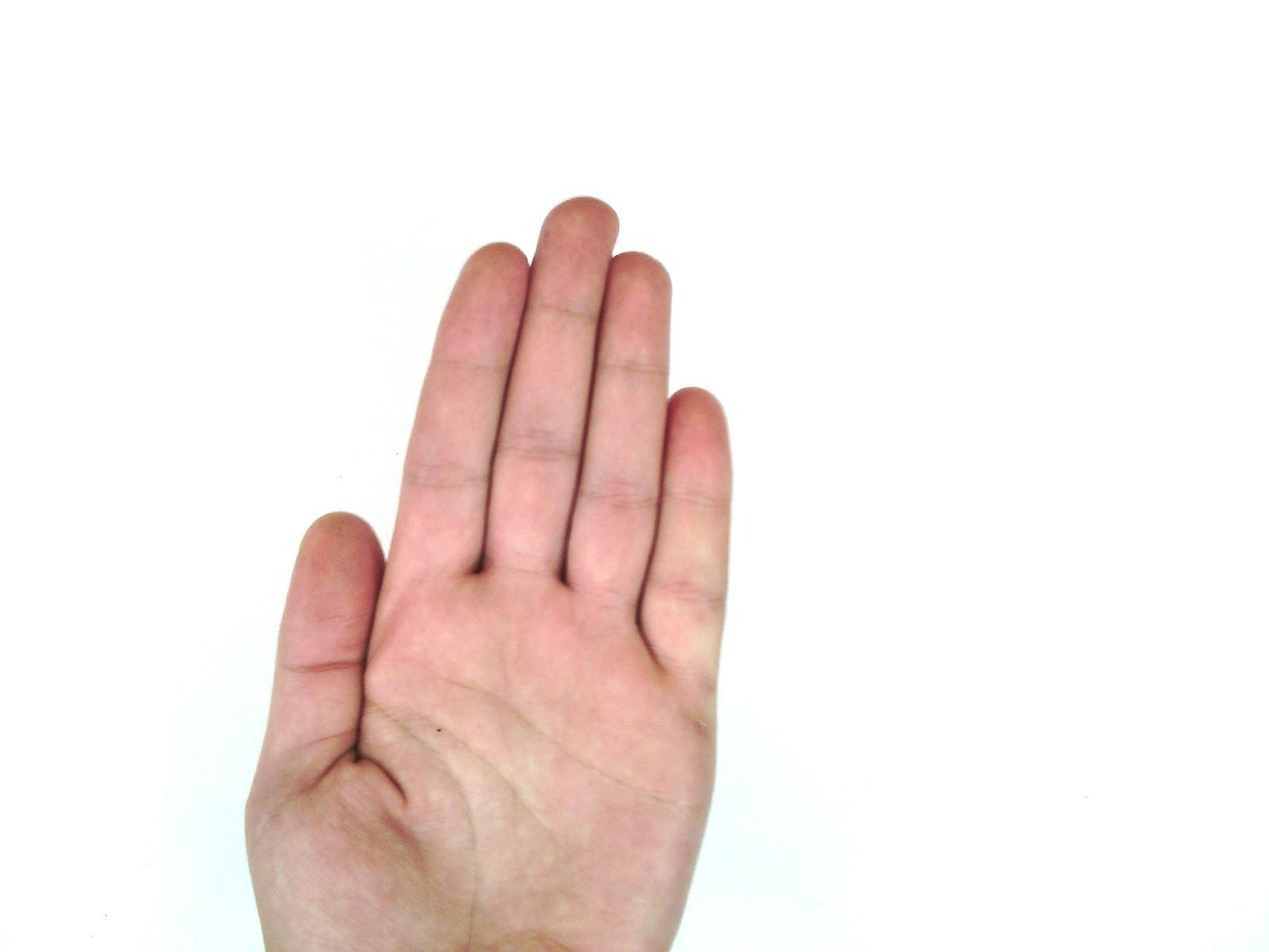open_palm: (242, 195, 737, 951)
